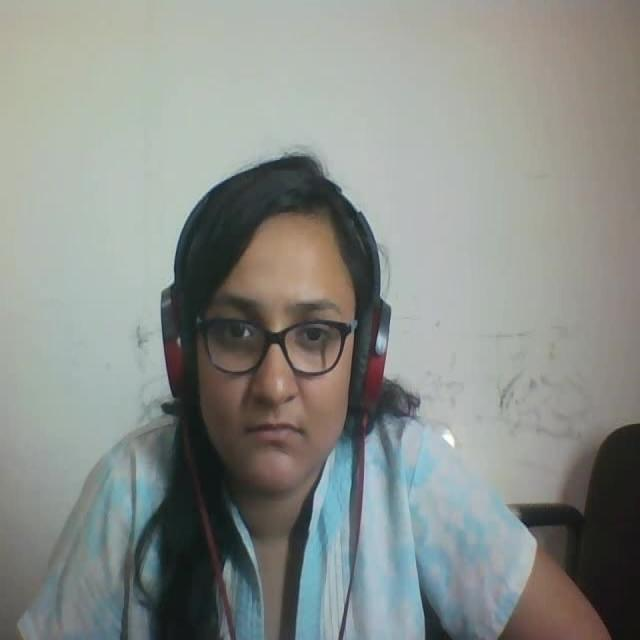Engaged: (150, 139, 410, 499)
